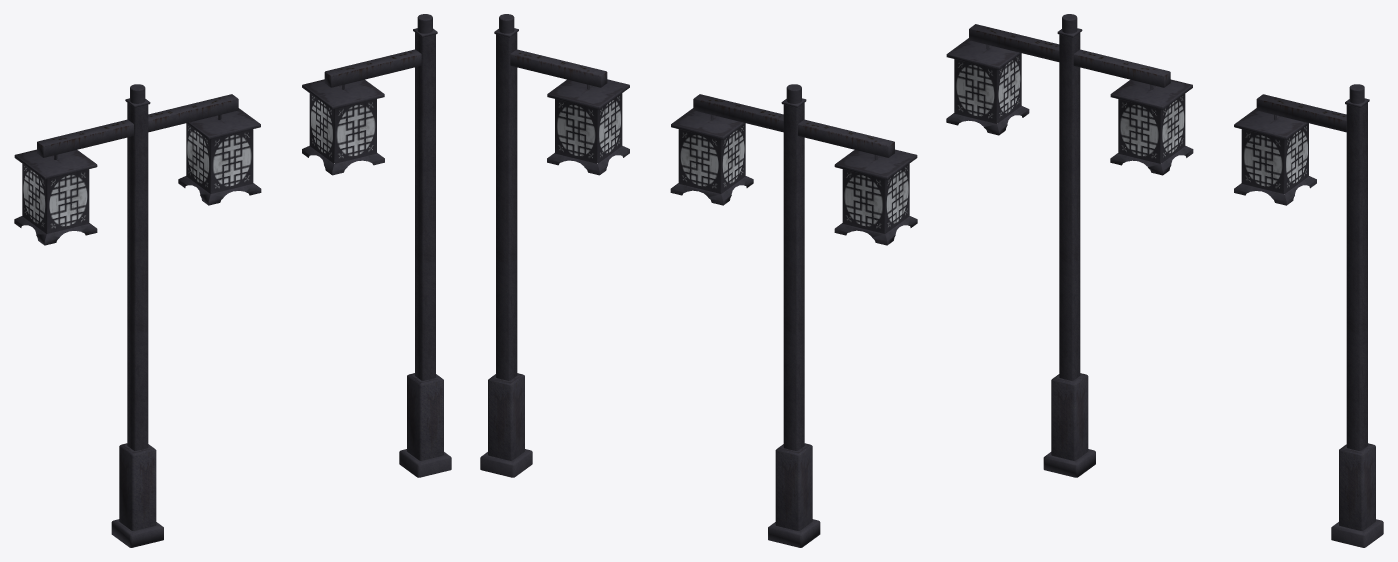
The picture shows the model from 3 angles, left to right: view 1: azimuth 30°, elevation 25°; view 2: azimuth 150°, elevation 25°; view 3: azimuth 330°, elevation 25°; orthographic projection.
Parts seen in each view (by area): view 1: model_1, model_0; view 2: model_1, model_0; view 3: model_1, model_0.
Boxes of the visible parts, box(x1,y1,x2,y2) form: model_1: box(14, 84, 261, 547); model_0: box(302, 14, 451, 477); model_1: box(670, 84, 917, 547); model_0: box(480, 14, 629, 477); model_1: box(946, 14, 1193, 477); model_0: box(1234, 84, 1383, 547).
Size of the model in its own units: 2.87 by 2.99 by 0.3657.
1 material, 1 textured.
